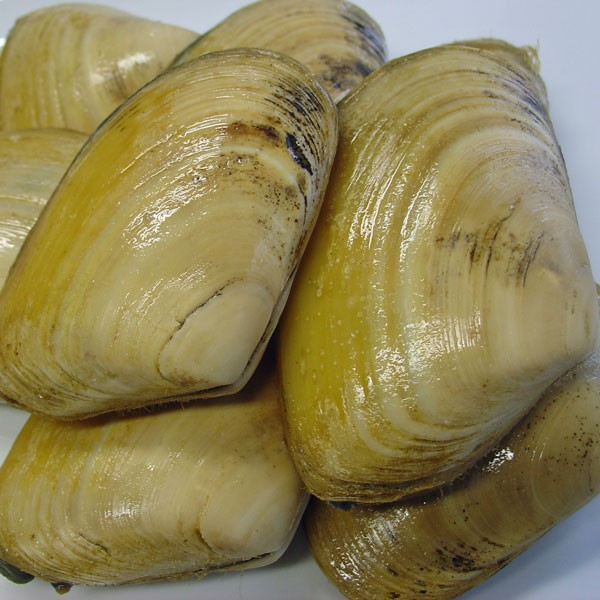tuatua: (286, 41, 596, 503), (1, 49, 340, 410), (308, 365, 596, 600), (1, 407, 303, 593)
